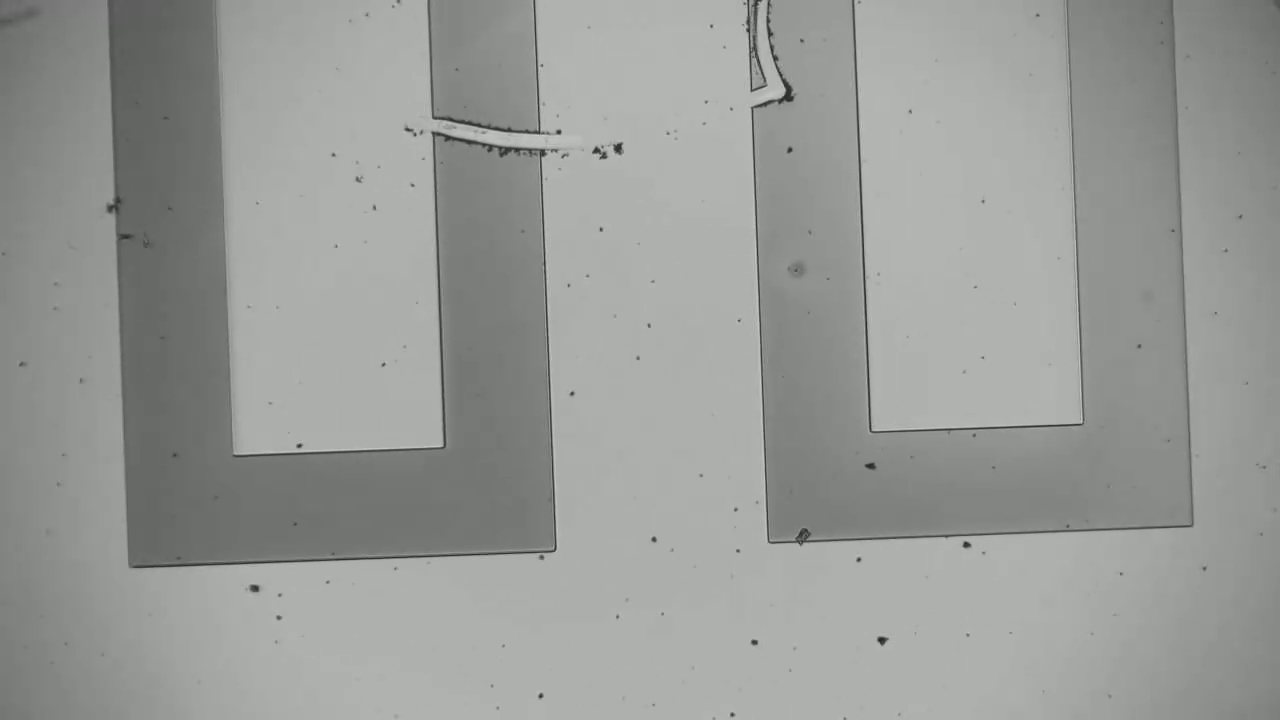Short_circuit: (409, 89, 575, 171)
